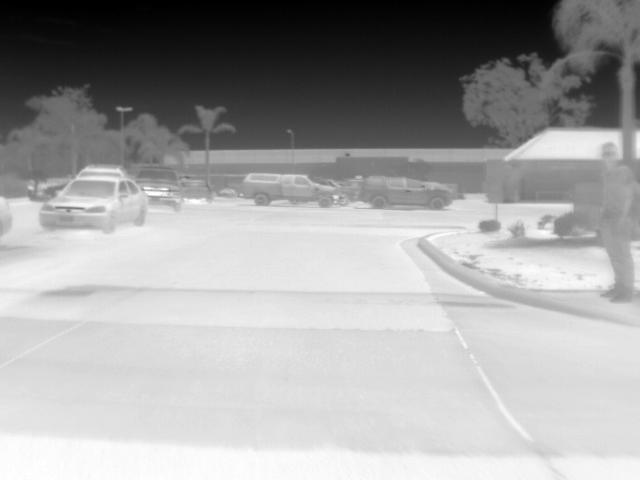car: (36, 174, 146, 234), (239, 171, 338, 208), (356, 174, 453, 208), (131, 167, 182, 211), (27, 172, 76, 202), (310, 176, 356, 202), (179, 178, 210, 200)
person: (592, 140, 639, 304)
